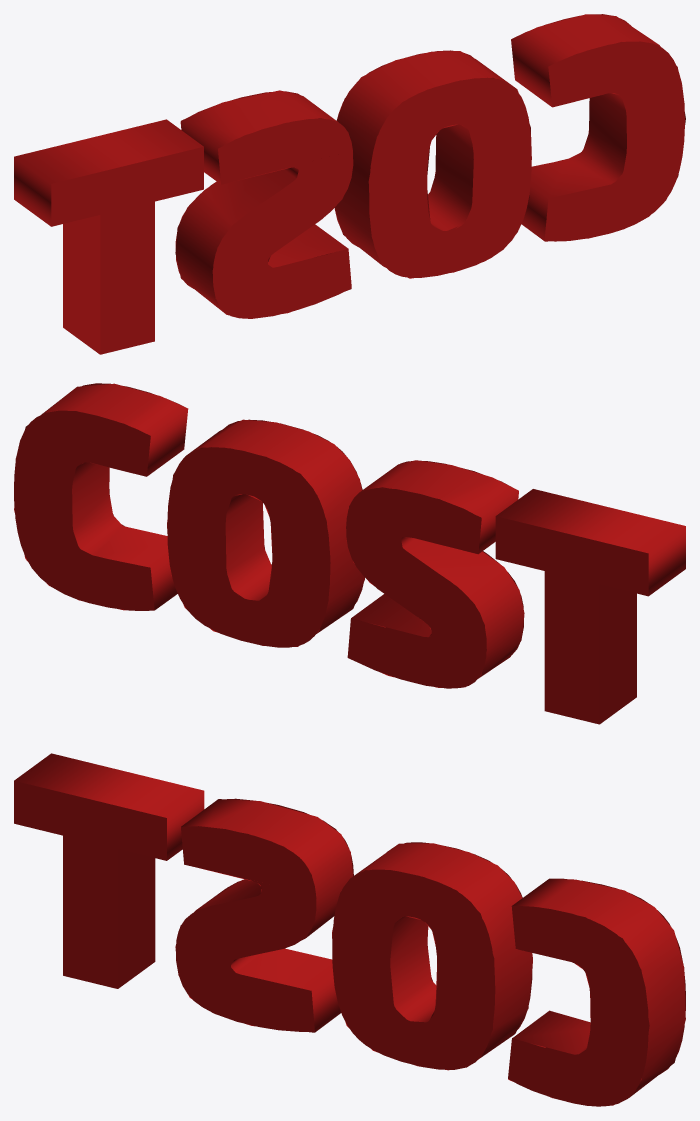
The model's file is cost.fbx.
The picture shows the model from 3 angles, top to bottom: view 1: azimuth 30°, elevation 25°; view 2: azimuth 150°, elevation 25°; view 3: azimuth 330°, elevation 25°; orthographic projection.
Parts seen in each view (by area): view 1: Text; view 2: Text; view 3: Text.
Part boxes in pixels (bbox=[...]): Text: bbox=[14, 14, 685, 354]; Text: bbox=[14, 383, 685, 724]; Text: bbox=[14, 753, 685, 1106].
Bounding box in the file's own units: 7.85 × 2.26 × 0.8.
